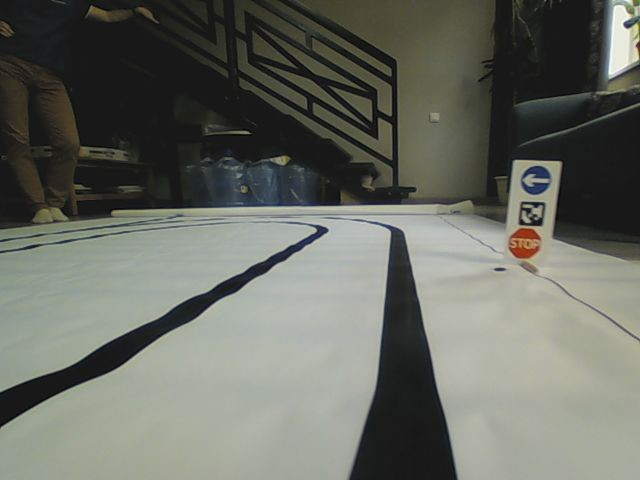Stop: (507, 227, 543, 260)
